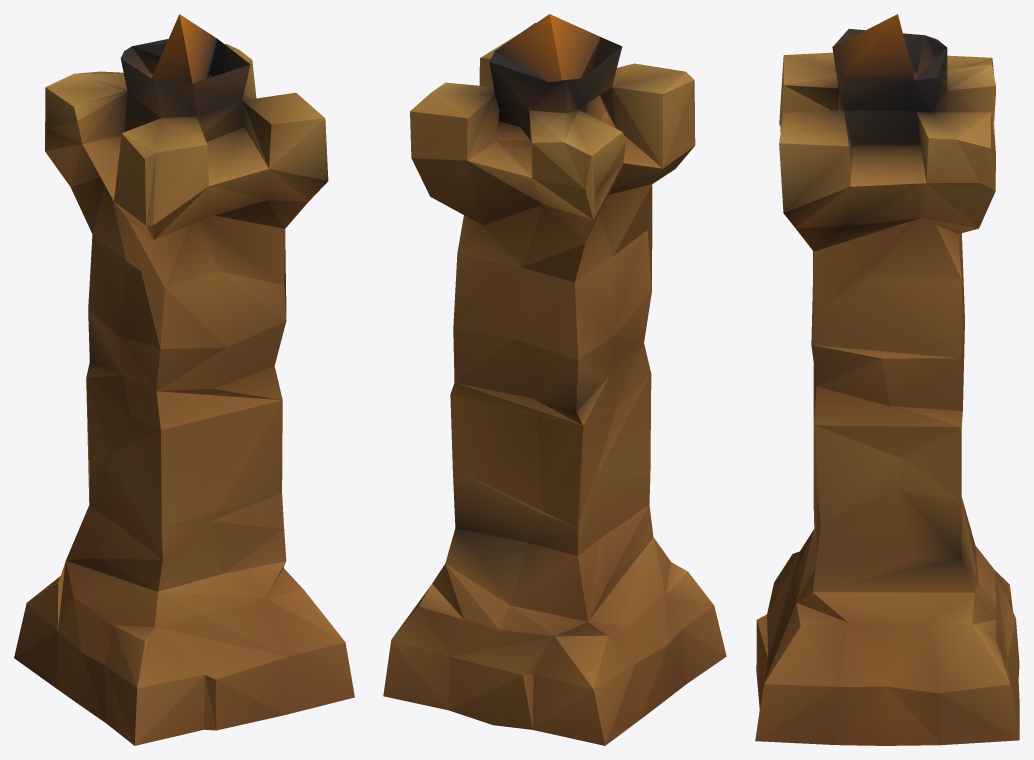
The model's file is fortress-pillar.glb.
3 views of the same model, side by side, from view 1: azimuth 30°, elevation 25°; view 2: azimuth 150°, elevation 25°; view 3: azimuth 270°, elevation 25° (orthographic). The views are drawn at different scales.
Parts seen in each view (by area): view 1: fortress-pillar-far; view 2: fortress-pillar-far; view 3: fortress-pillar-far.
Part boxes in pixels (left/top/right/bottom): fortress-pillar-far: left=14, top=14, right=354, bottom=745; fortress-pillar-far: left=383, top=14, right=726, bottom=745; fortress-pillar-far: left=755, top=14, right=1019, bottom=745.
Size of the model in its own units: 3.65 by 10.47 by 3.71.
